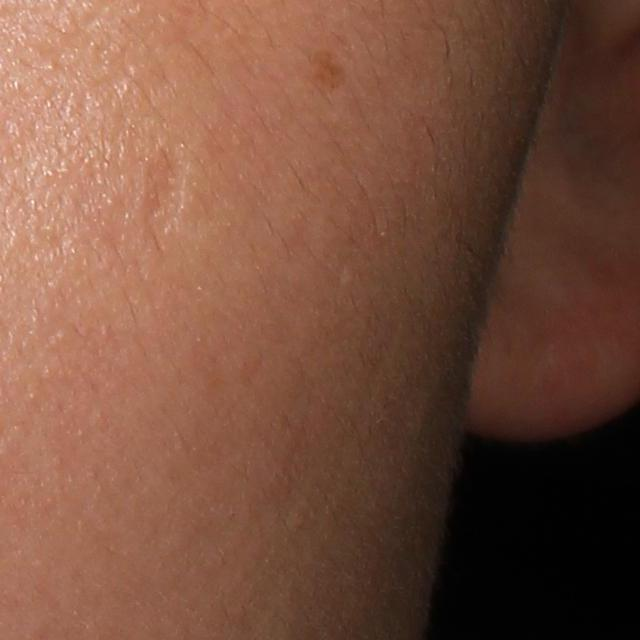atrophic_scar: (142, 132, 197, 249)
melasma: (307, 47, 348, 92)
